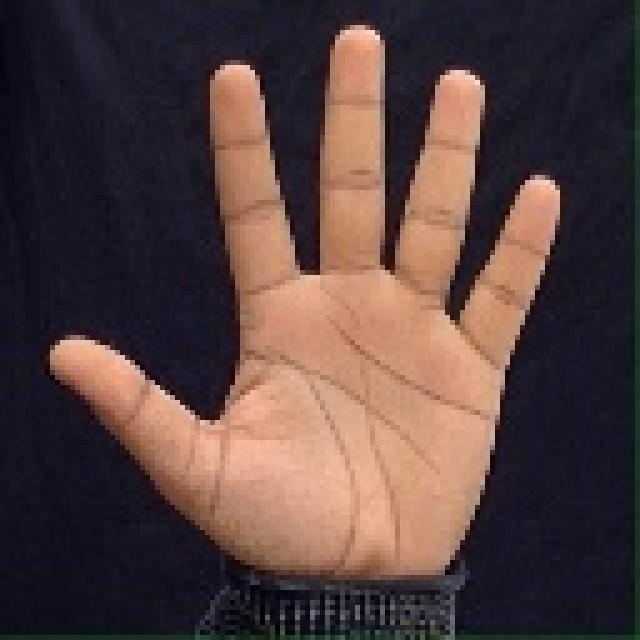Numeric-5: (41, 26, 562, 590)
